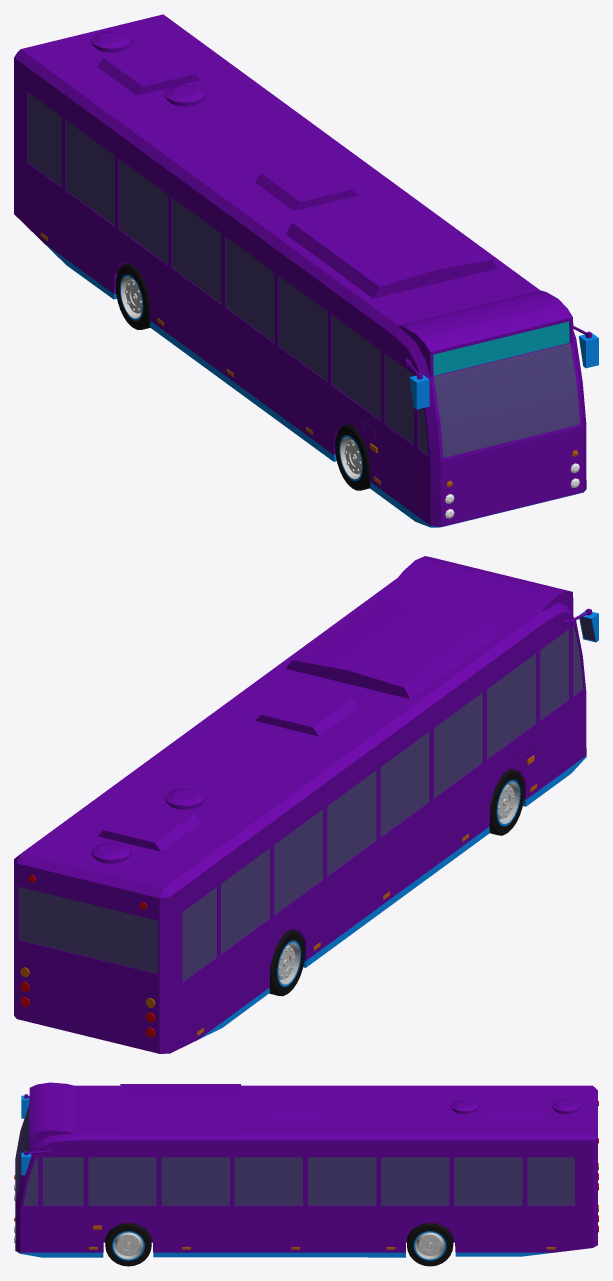
File: Bus.fbx
3 views of the same model, one above another, from view 1: azimuth 30°, elevation 25°; view 2: azimuth 150°, elevation 25°; view 3: azimuth 270°, elevation 25° (orthographic). The views are drawn at different scales.
Parts seen in each view (by area): view 1: Bus; view 2: Bus; view 3: Bus.
Boxes of the visible parts, x1,y1,x2,y2 form: Bus: (14,14,598,527); Bus: (14,556,598,1053); Bus: (14,1082,598,1266).
Bounding box in the file's own units: 288 × 308 × 1165.
